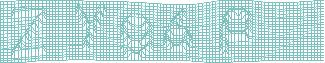6: (163, 7, 196, 54)
9: (120, 14, 156, 60)
Z: (9, 5, 48, 58)
p: (218, 7, 254, 56)
y: (74, 2, 107, 53)
